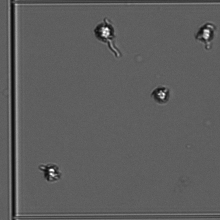Living Cell: (91, 22, 117, 43), (194, 22, 217, 44), (151, 85, 172, 103), (42, 163, 61, 182)
